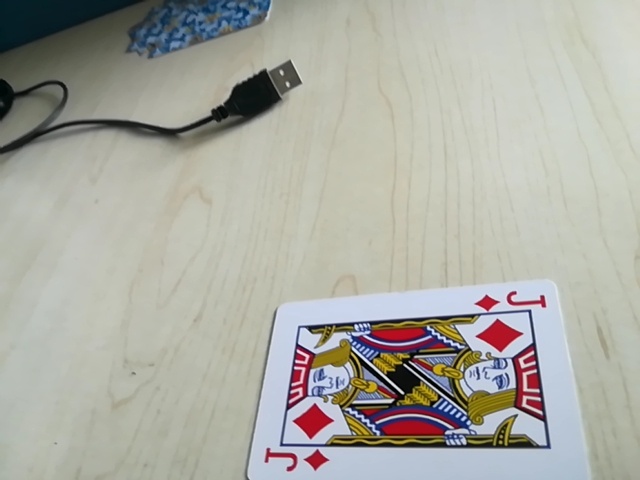fk j: (476, 287, 546, 316), (263, 447, 330, 475)
